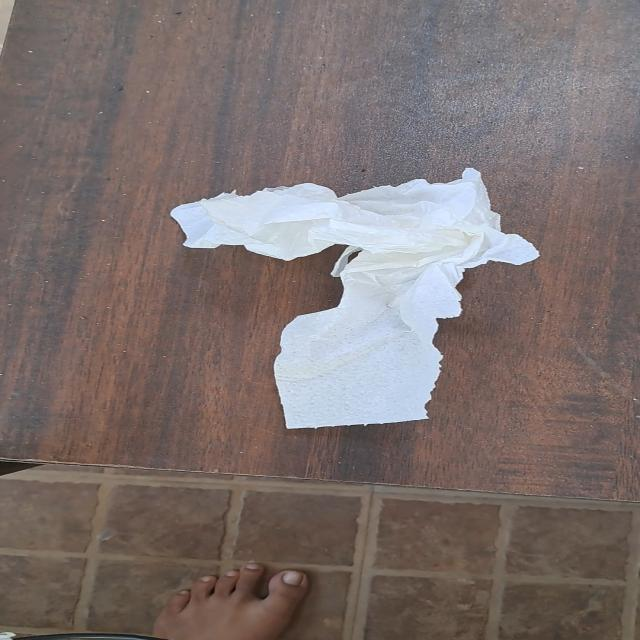Organik: (172, 165, 544, 431)
